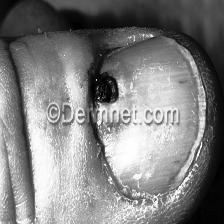Benign Marking or Mole: (90, 72, 120, 106)
